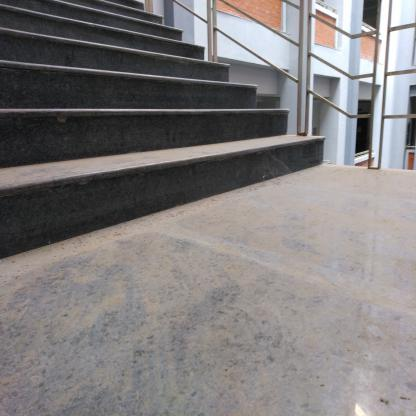stairs: (1, 29, 184, 244)
